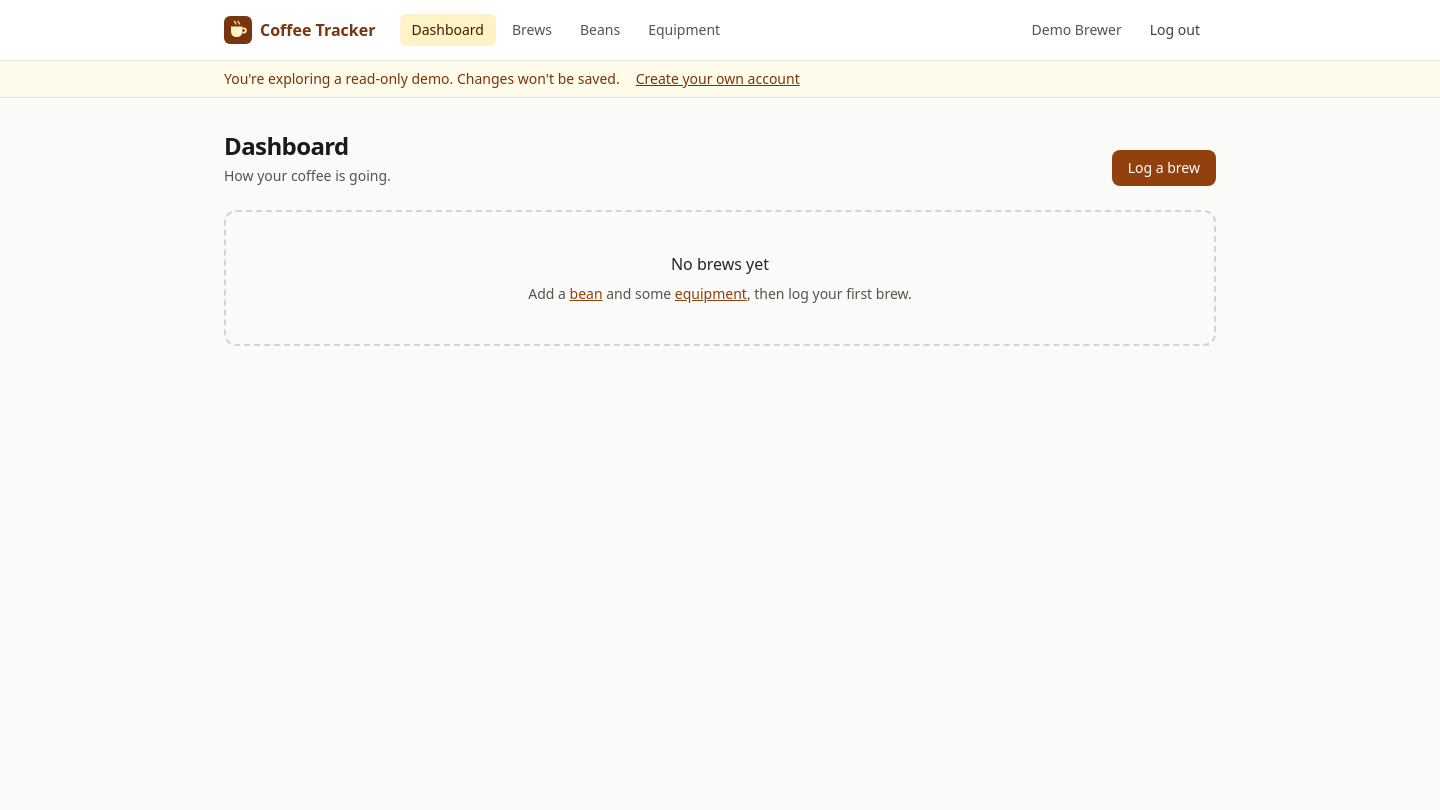
Scenario: authentication › goes from the demo to sign-up, and the new account replaces the demo
Click the link "Create your own account".
click(718, 79)  # box [636,69,800,89]
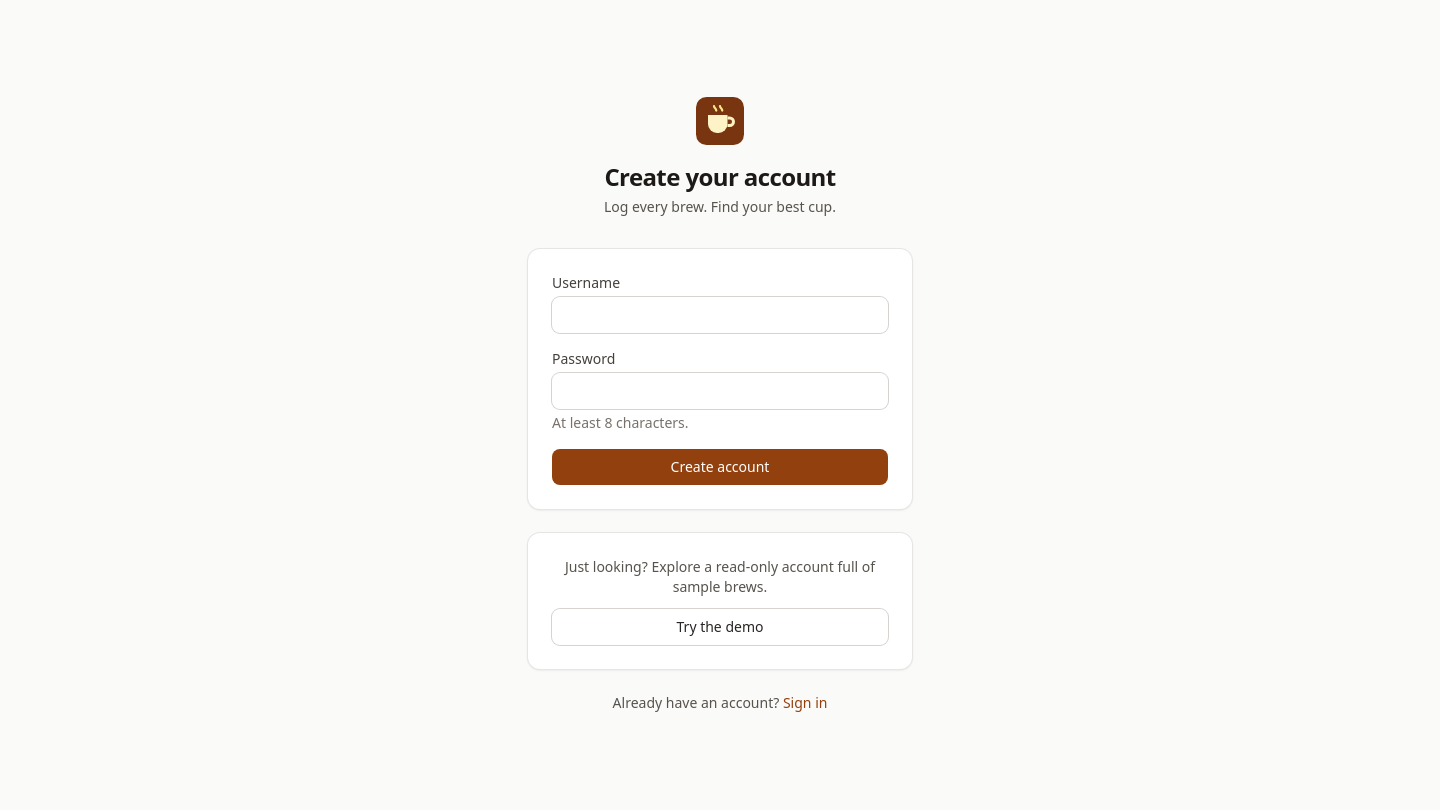
Expected: the heading "Create your account" is shown, [604,160,836,193]
Type "newbie" into the field labelled "Username".
click(720, 315); type("newbie")  # box [552,297,888,333]
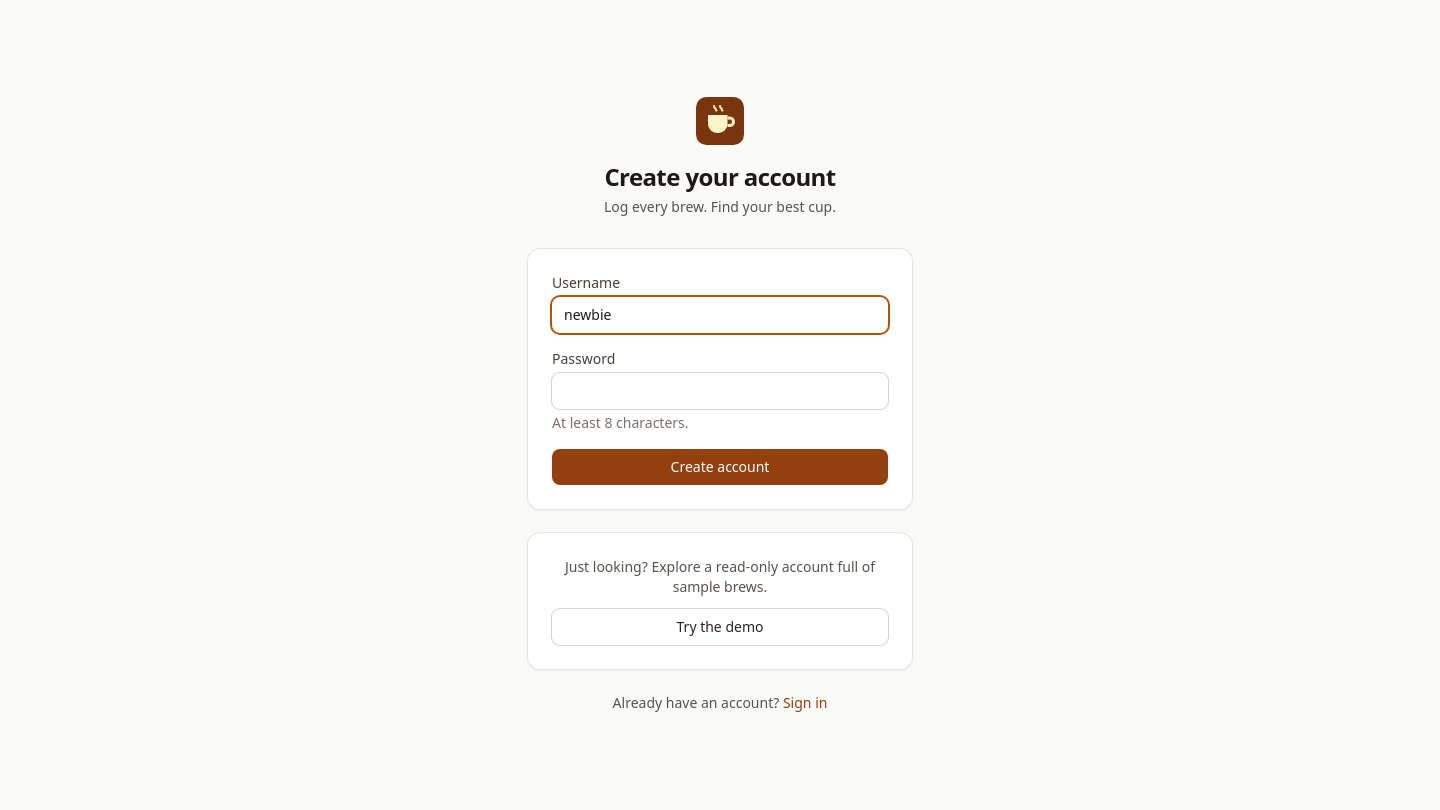
Type "correct-horse" into the password field labelled "Password".
click(720, 391); type("correct-horse")  # box [552,373,888,409]
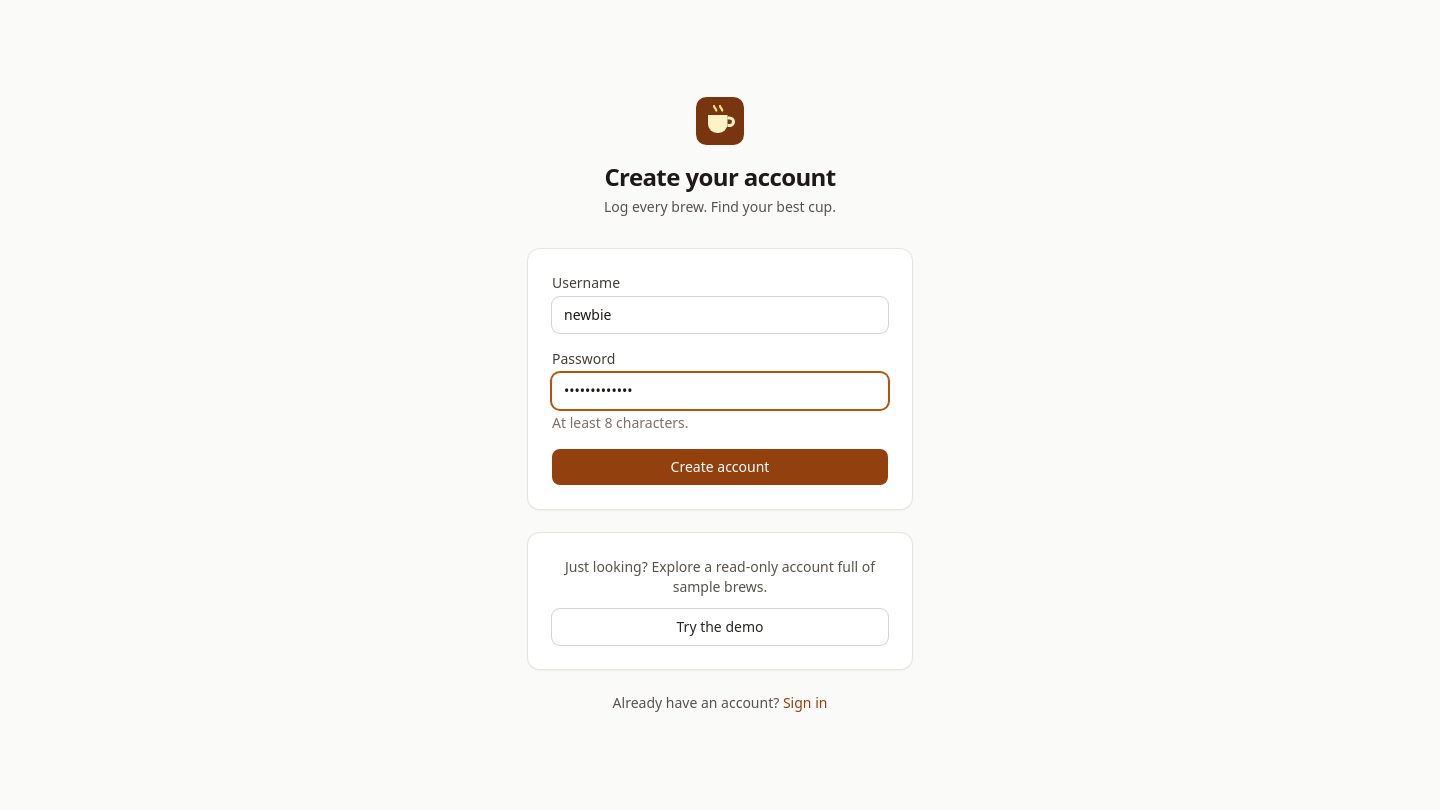
Click the button "Create account".
click(720, 467)  # box [552,449,888,485]
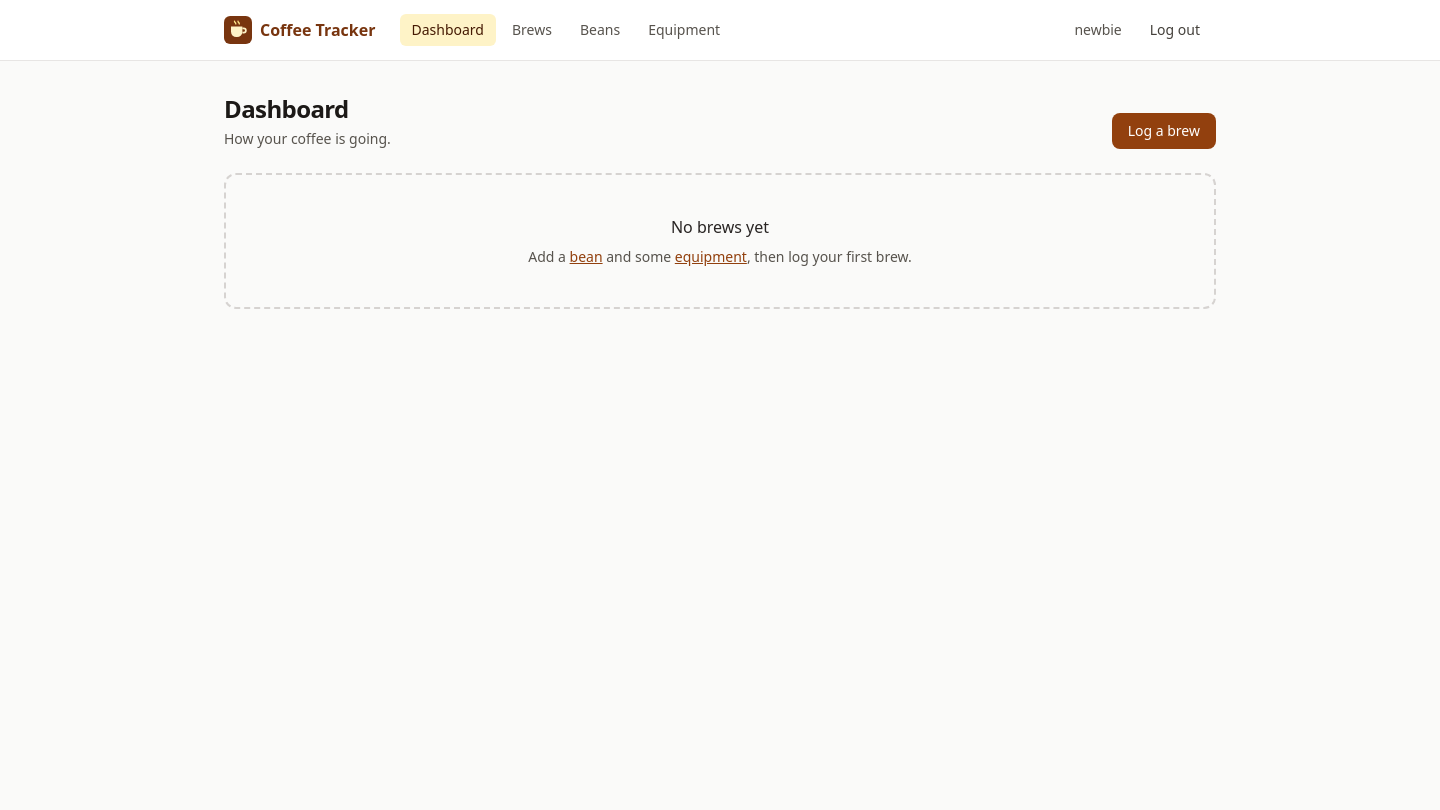
Expected: the text "read-only demo" is not shown
Expected: the text "newbie" is shown, [1074,20,1122,40]
